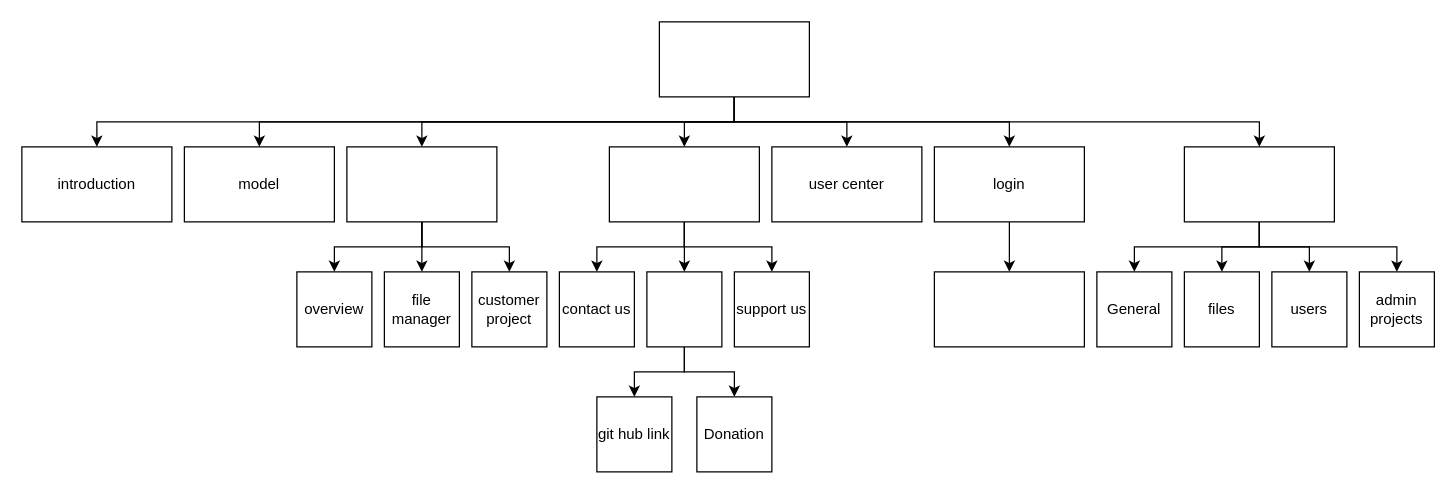
The diagram is 1456 pixels wide and 494 high, and some of its shapes have lost their labels. Here are the shapes that lost their labels. From the top down, the box of each, then its label:
(658, 21, 809, 97): home page
(346, 146, 497, 222): workspace
(608, 146, 759, 222): support
(1183, 146, 1334, 222): admin login
(646, 271, 722, 347): about us
(933, 271, 1084, 347): register
